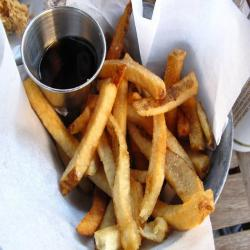fries: (52, 98, 217, 229)
